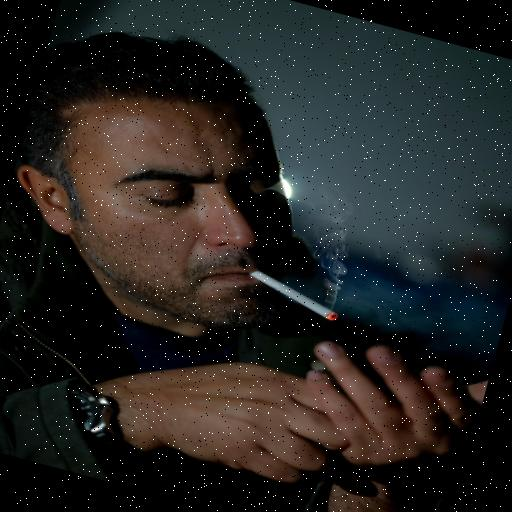terdeteksi merokok: (183, 170, 394, 376)
